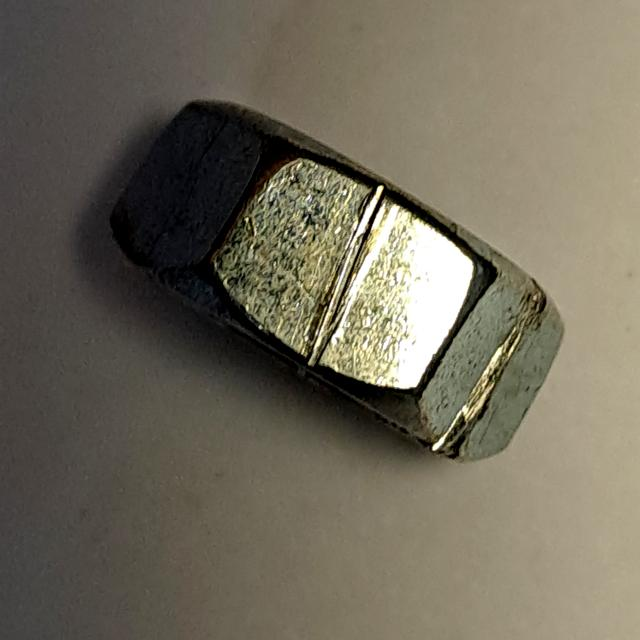Side_Scratches: (94, 85, 570, 480)
